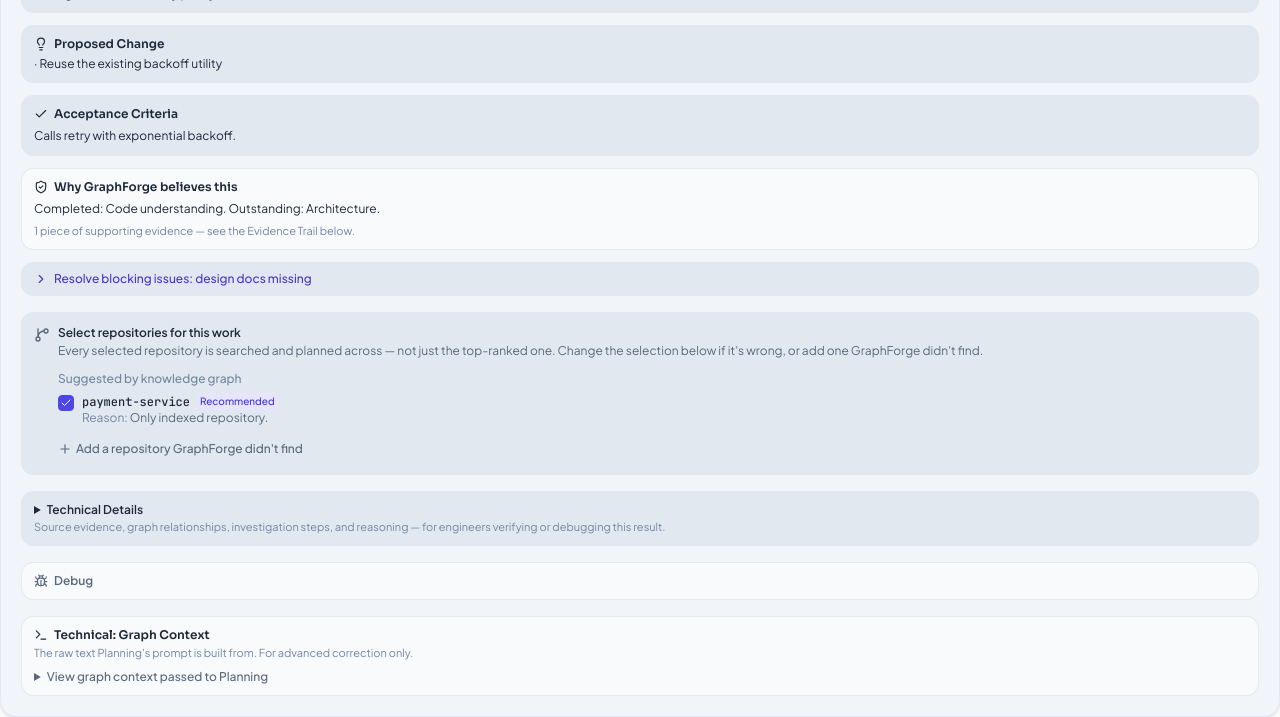
Test case: ReasoningSection › shows an honest empty state when nothing was reasoned about
(page scrolled)
Click the heading "Technical Details" at (350, 518), box x1=34 y1=502 x2=666 y2=533
(page scrolled)
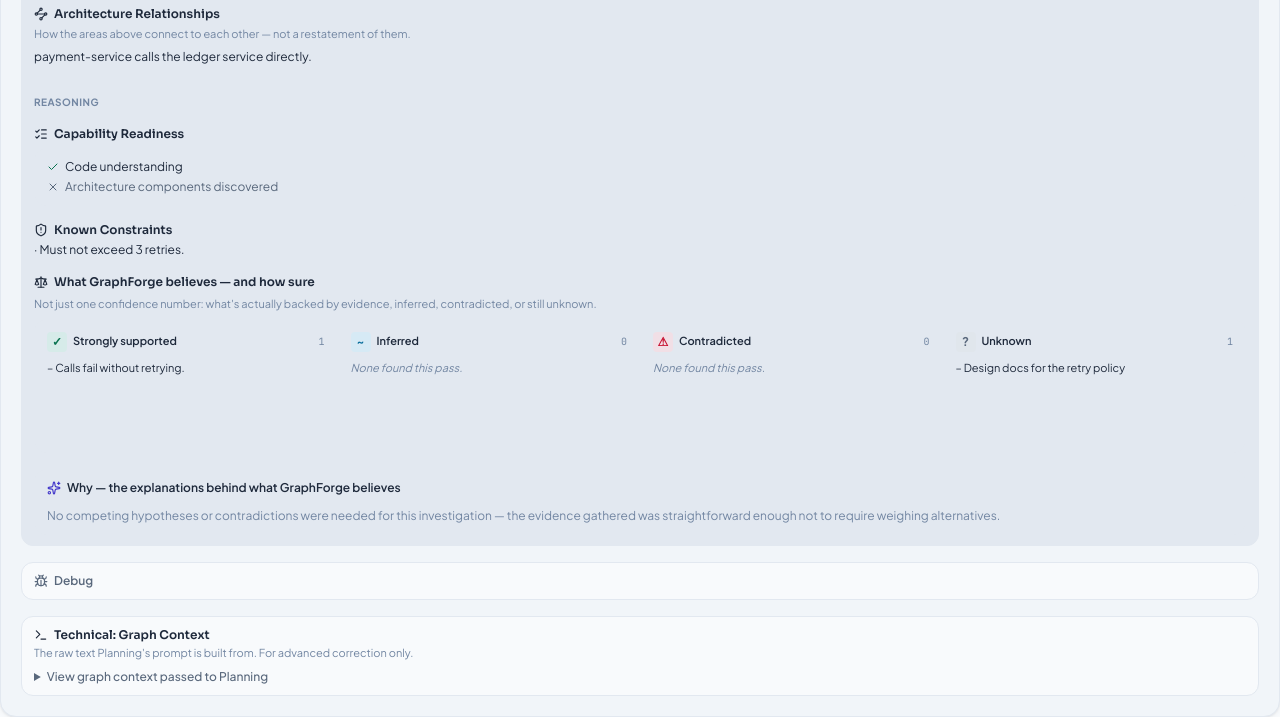
Check: the text "No competing hypotheses or contradictions were needed" is shown, box x1=47 y1=508 x2=1000 y2=523
